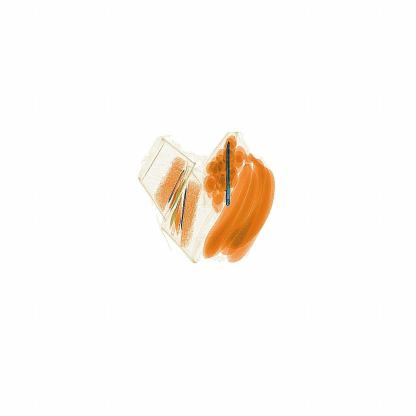pliers: (211, 138, 243, 207)
